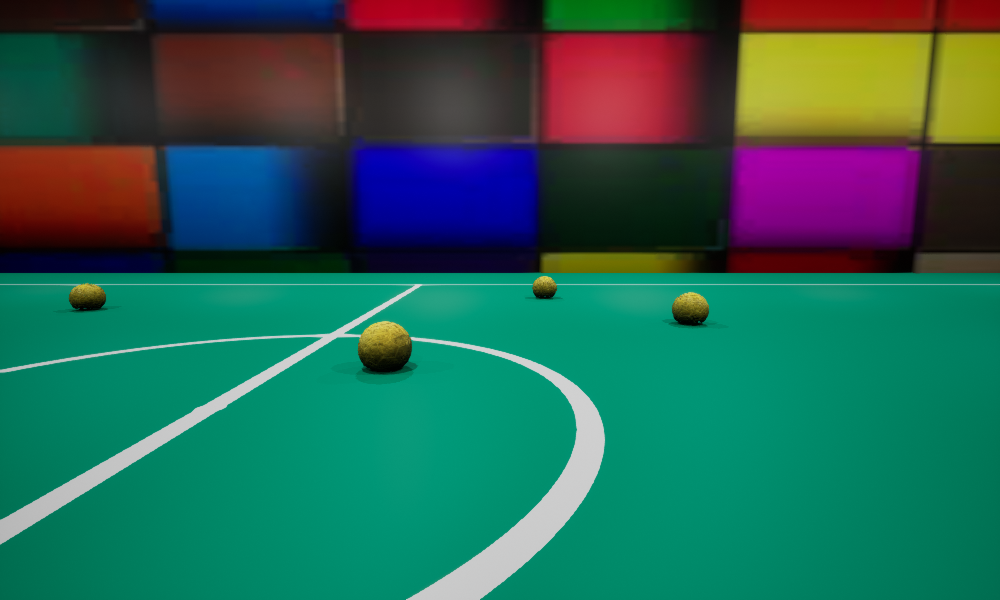b: (358, 321, 411, 369), (672, 292, 708, 324), (69, 283, 105, 310), (532, 276, 556, 298)
